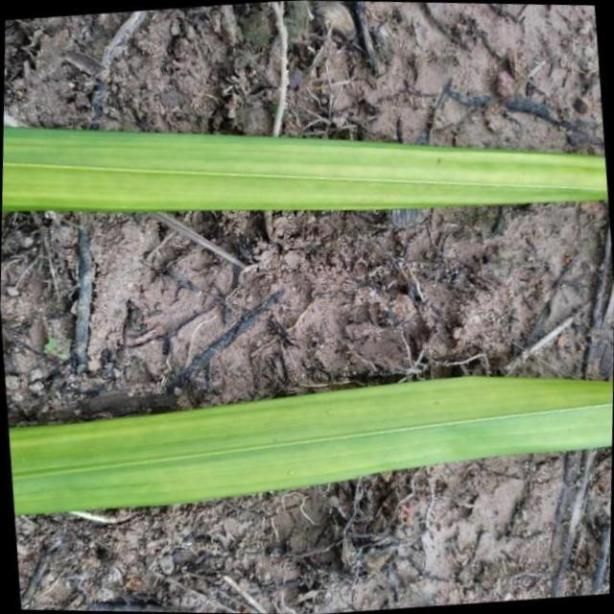nitrogen: (0, 376, 614, 513), (0, 128, 612, 212)
